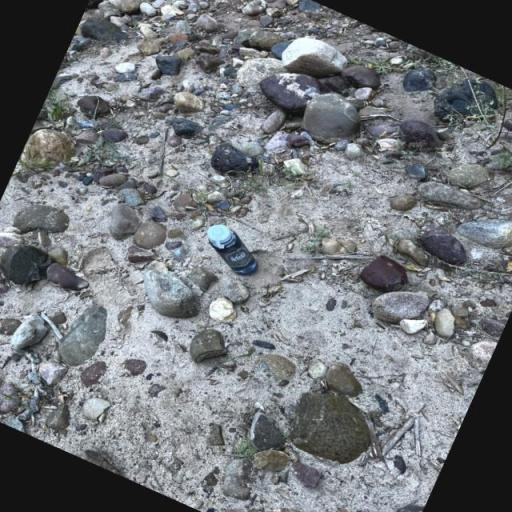bottle: (196, 220, 268, 282)
